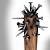baseball bat: (21, 6, 42, 50)
